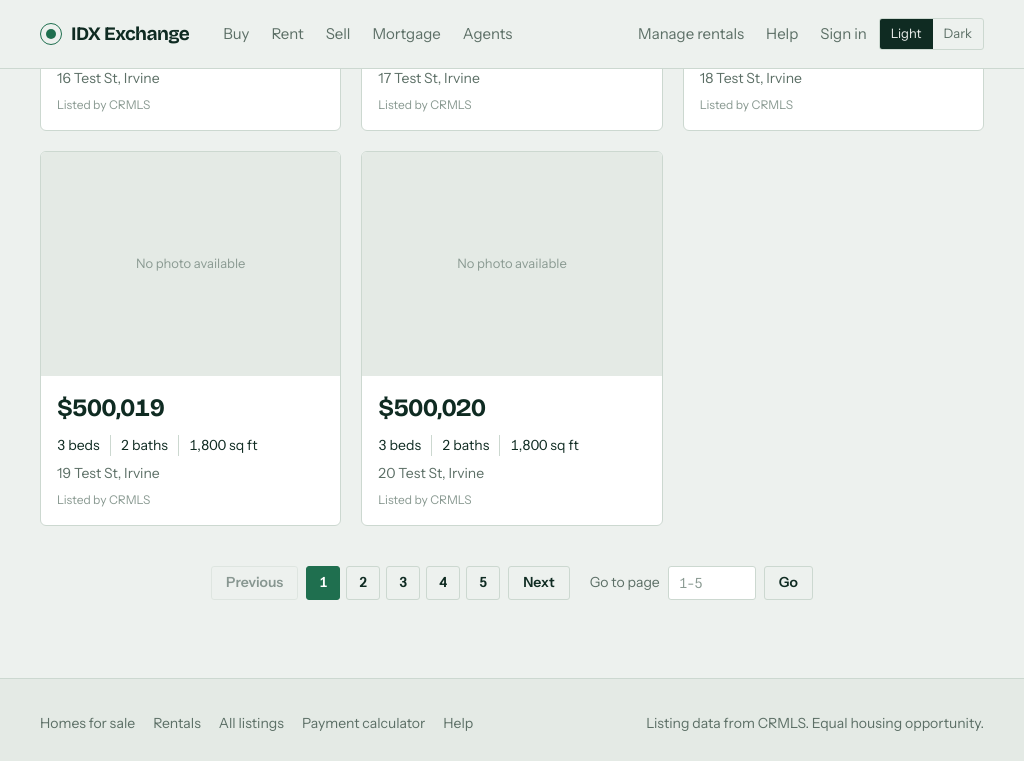
ListingsPage pagination › Next moves to the following page
(page scrolled)
What coordinates should you click on to do the following:
click the button "Next"
I would click on:
 (539, 583)
Its box is x1=508 y1=566 x2=570 y2=600.
(page scrolled)
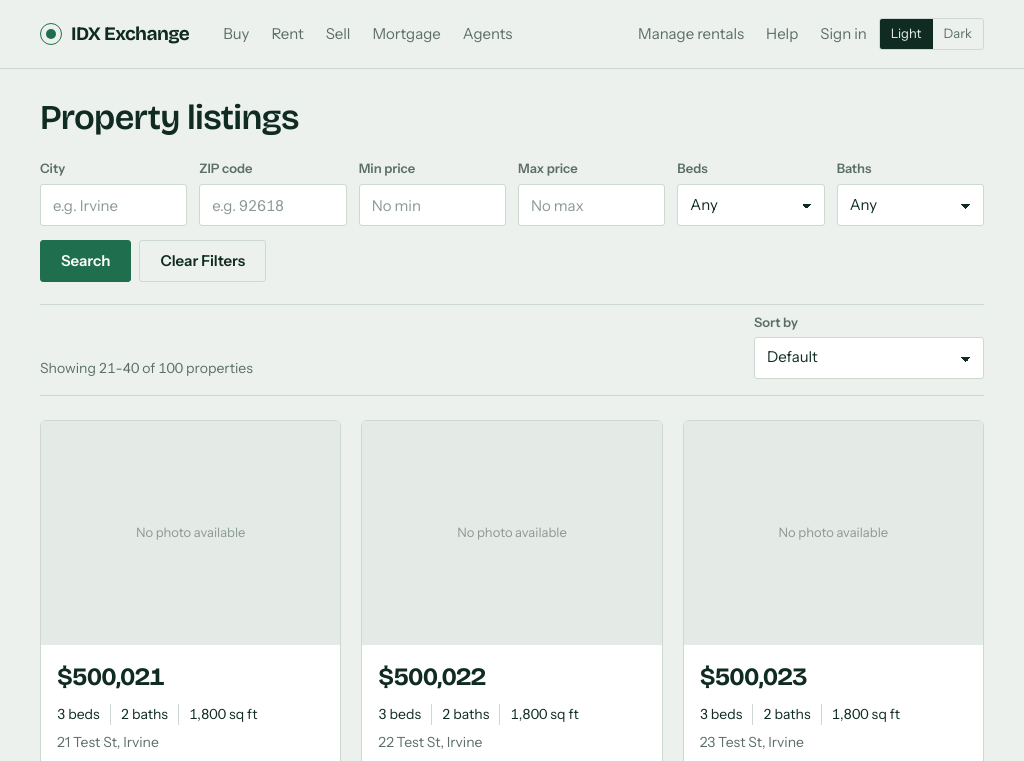
Check: the text "Showing 21-40 of 100 properties" is shown, box x1=40 y1=358 x2=253 y2=379
